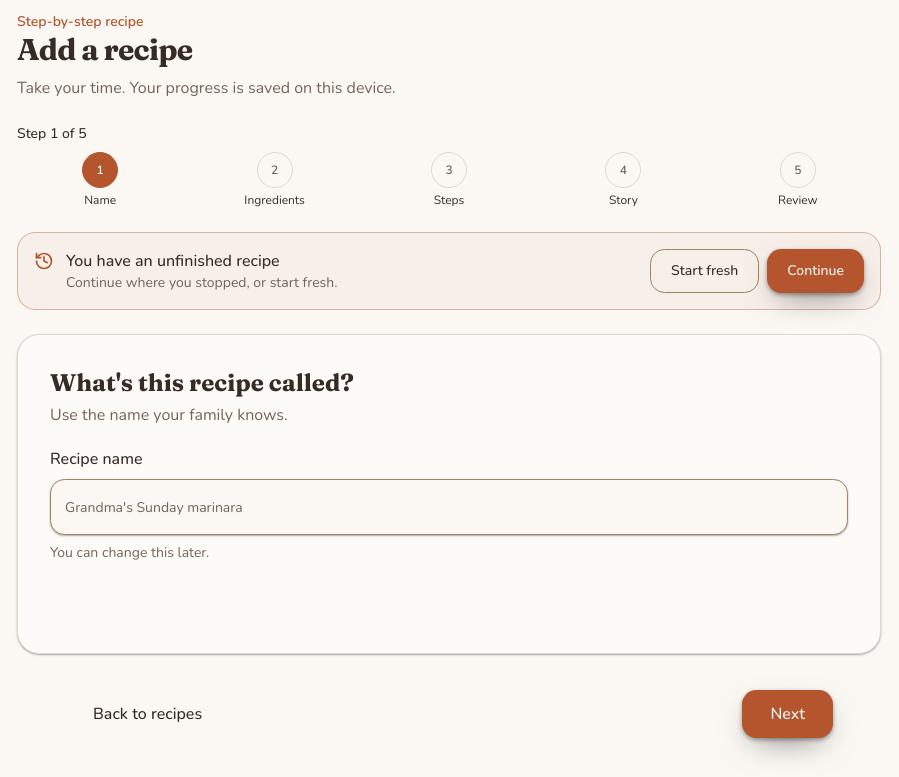
Test case: GuidedRecipeEntry (#398) › offers and restores only the isolated guided draft
The image size is (899, 777).
Expected: the element named "Unfinished step-by-step recipe" is shown, [17,232,881,310]
Click the button "Continue" at (816, 271), box [767,249,864,293]
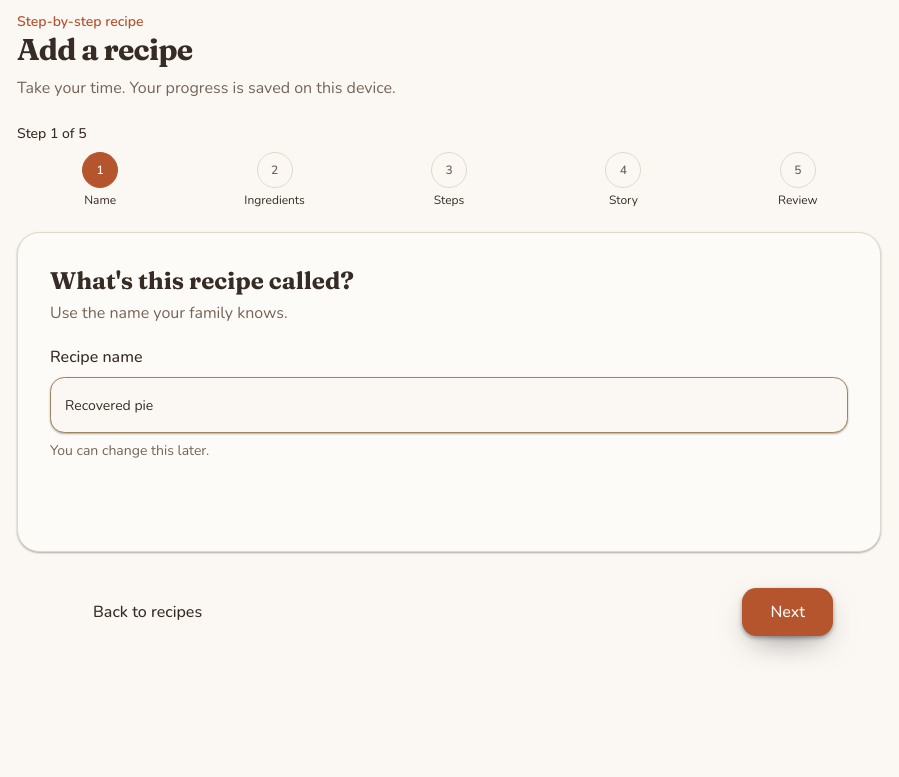
Now the field labelled "Recipe name" holds "Recovered pie", box [50,377,848,433]
